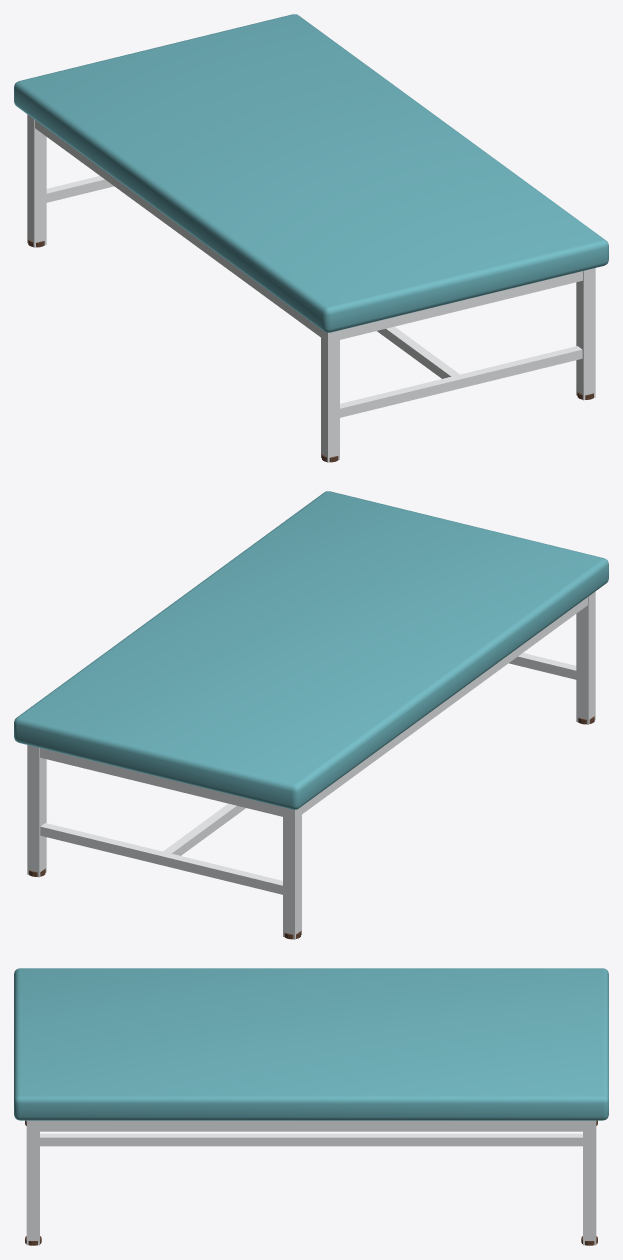
Rendered from Rehabilitation_Room_bed1.fbx.
3 renders of one model, top to bottom at view 1: azimuth 30°, elevation 25°; view 2: azimuth 150°, elevation 25°; view 3: azimuth 270°, elevation 25°, orthographic. The views are drawn at different scales.
Parts seen in each view (by area): view 1: 05_BobathTable_Intact_Mesh; view 2: 05_BobathTable_Intact_Mesh; view 3: 05_BobathTable_Intact_Mesh.
Part boxes in pixels (box(x1,y1,x2,y2)): 05_BobathTable_Intact_Mesh: box(14, 14, 608, 462); 05_BobathTable_Intact_Mesh: box(14, 491, 608, 939); 05_BobathTable_Intact_Mesh: box(14, 968, 608, 1245).
Bounding box in the file's own units: 105 × 56 × 200.
